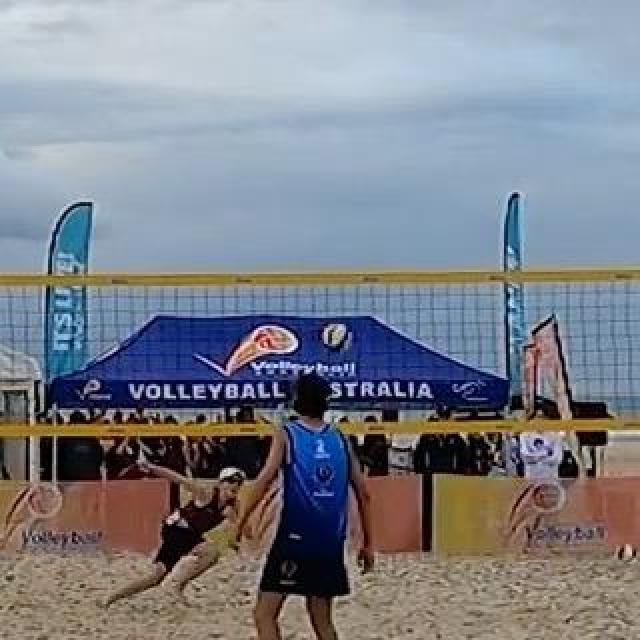volleyball: (323, 323, 353, 353), (617, 545, 635, 563)
